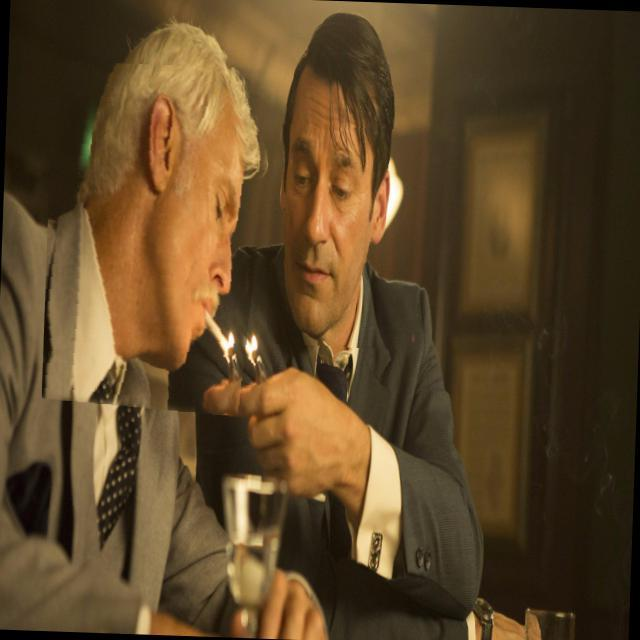cigarette: (210, 294, 276, 386)
